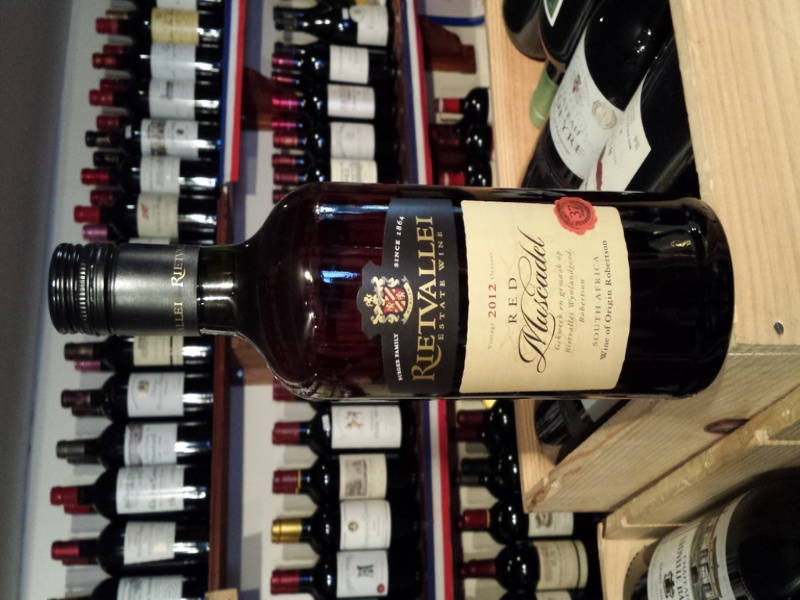wine: (34, 5, 800, 599), (45, 169, 742, 415)
